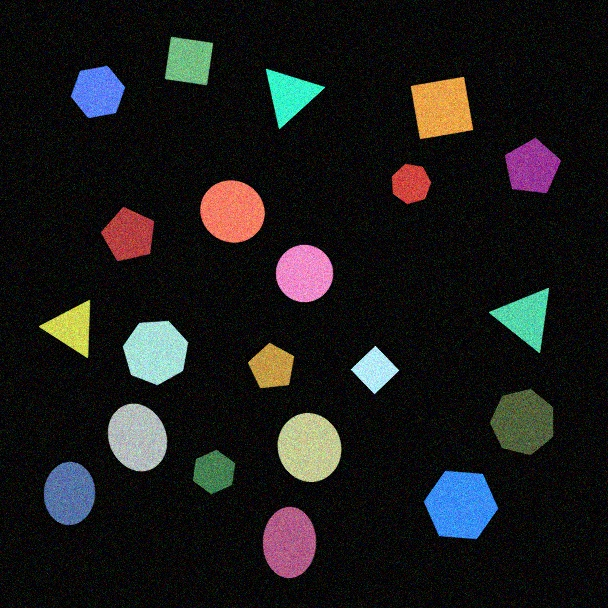Circulo: (277, 412, 342, 483), (199, 180, 266, 243), (275, 244, 334, 303)
Elipse: (107, 403, 168, 472), (262, 506, 317, 579), (43, 461, 96, 526)
Heptagono: (122, 320, 189, 386), (489, 388, 554, 456), (391, 163, 432, 205)
Hexagono: (423, 470, 499, 540), (70, 65, 126, 119), (192, 449, 236, 495)
Pentagono: (504, 137, 562, 194), (100, 206, 155, 262), (247, 342, 295, 389)
Quadrado: (410, 76, 474, 140), (164, 36, 214, 86), (350, 345, 400, 395)
Triangulo: (489, 287, 550, 354), (265, 68, 326, 130), (39, 299, 91, 359)
